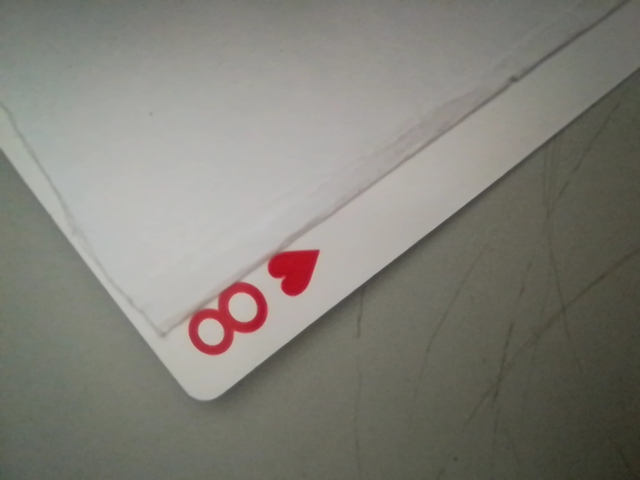hx 8: (169, 245, 323, 378)
